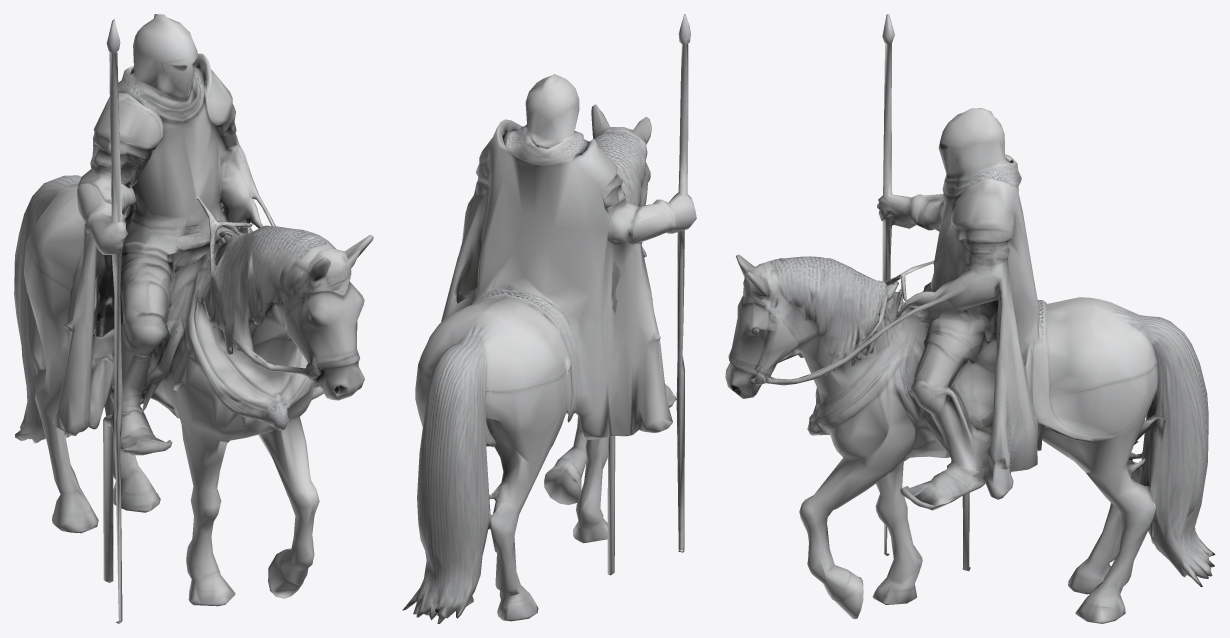
Rendered from Knight.fbx.
3 renders of one model, left to right at view 1: azimuth 30°, elevation 25°; view 2: azimuth 150°, elevation 25°; view 3: azimuth 270°, elevation 25°, orthographic. The views are drawn at different scales.
Parts seen in each view (by area): view 1: Mesh_0; view 2: Mesh_0; view 3: Mesh_0.
Part boxes in pixels (x1,y1,x2,y2): Mesh_0: (14, 14, 373, 623); Mesh_0: (402, 14, 696, 623); Mesh_0: (725, 14, 1215, 623).
Bounding box in the file's own units: 88.84 × 200 × 164.
1 material, 1 textured.
